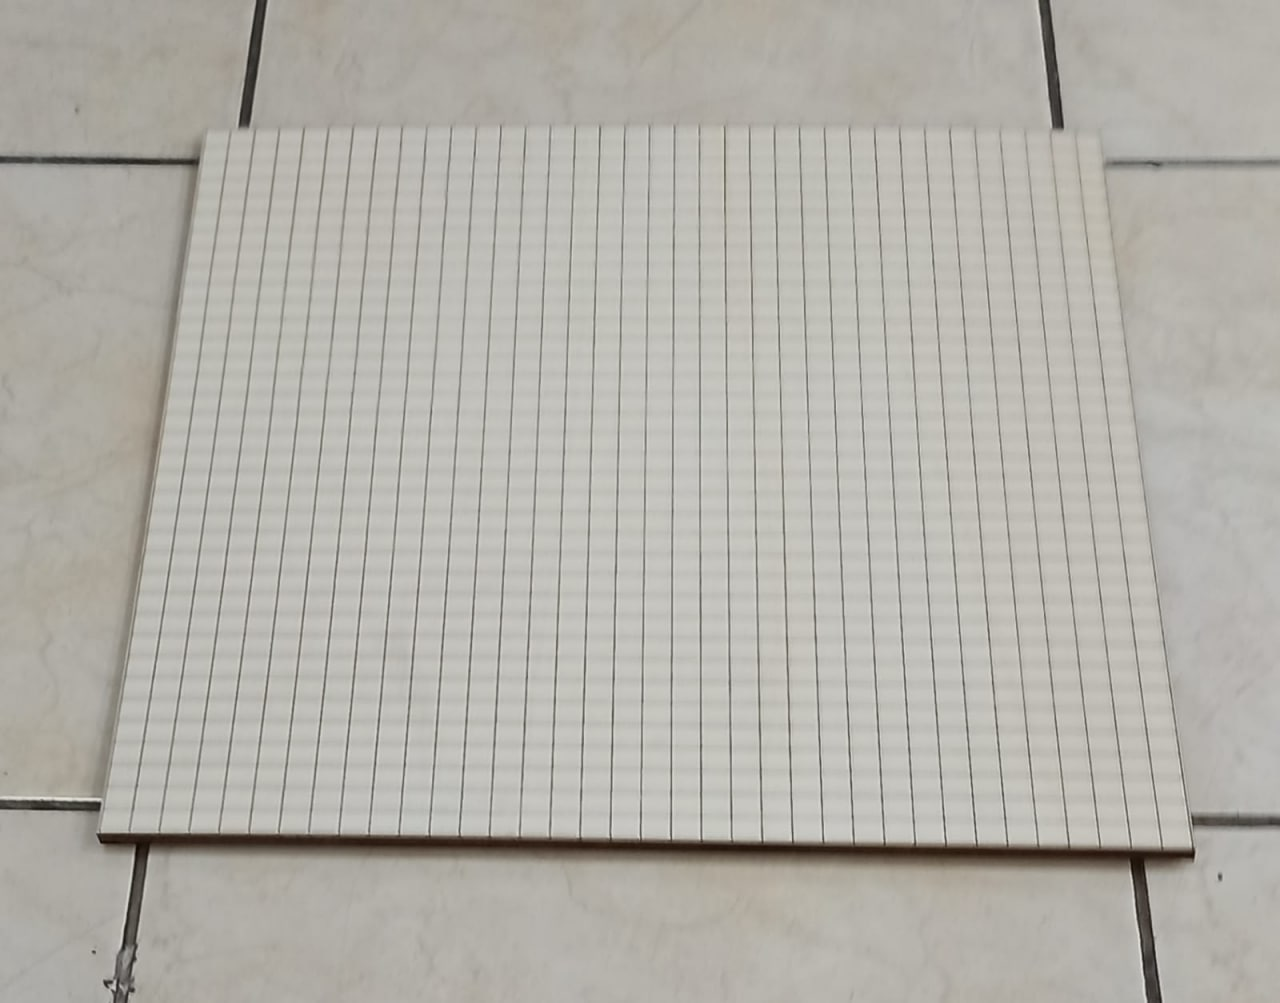grid: (92, 120, 1206, 865)
